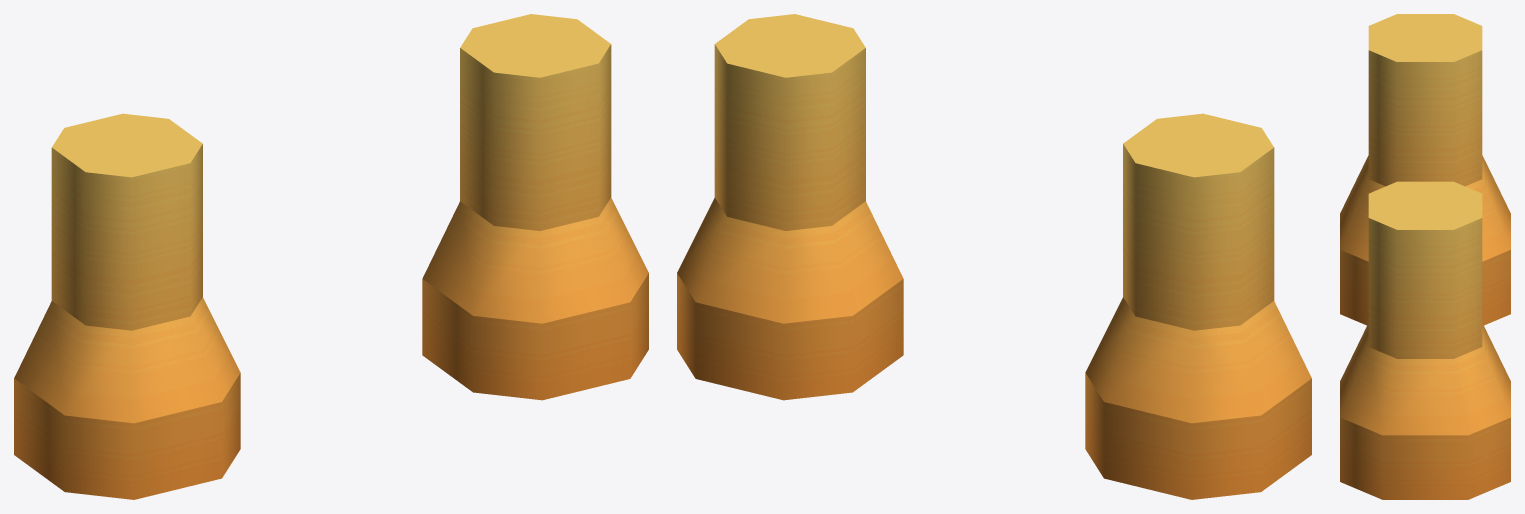
The model's file is support-color-two-bottom-col.glb.
3 views of the same model, side by side, from view 1: azimuth 30°, elevation 25°; view 2: azimuth 150°, elevation 25°; view 3: azimuth 270°, elevation 25° (orthographic). The views are drawn at different scales.
Visible parts, largest first — view 1: support-color-two-bottom-col; view 2: support-color-two-bottom-col; view 3: support-color-two-bottom-col.
Part boxes in pixels (x1=…): support-color-two-bottom-col: x1=14, y1=14, x2=648, y2=499; support-color-two-bottom-col: x1=677, y1=14, x2=1311, y2=499; support-color-two-bottom-col: x1=1340, y1=14, x2=1510, y2=499.
Size of the model in its own units: 0.9969 by 0.5 by 0.3.
1 material, 1 textured.
